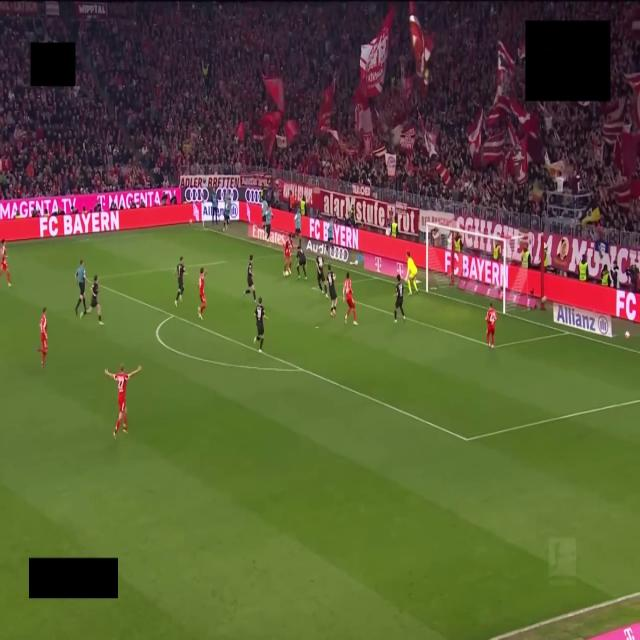player: (105, 365, 141, 438), (86, 276, 103, 325), (343, 272, 357, 325), (254, 297, 265, 352), (38, 307, 47, 367), (394, 274, 405, 322), (327, 265, 337, 317), (0, 240, 11, 287), (244, 255, 255, 301), (175, 256, 185, 306), (486, 303, 497, 348), (316, 256, 328, 297), (406, 252, 417, 295), (198, 268, 206, 319), (283, 234, 292, 276), (297, 241, 306, 279)
referee: (75, 260, 86, 314)
